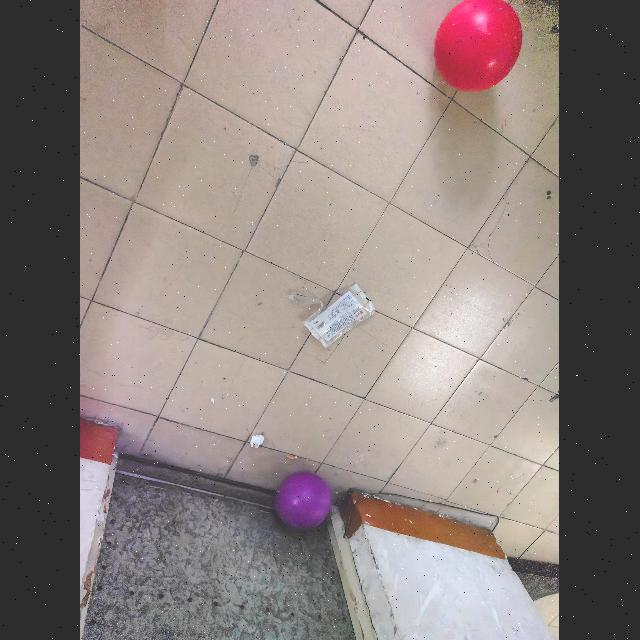P: (271, 468, 333, 534)
R: (436, 0, 526, 94)
